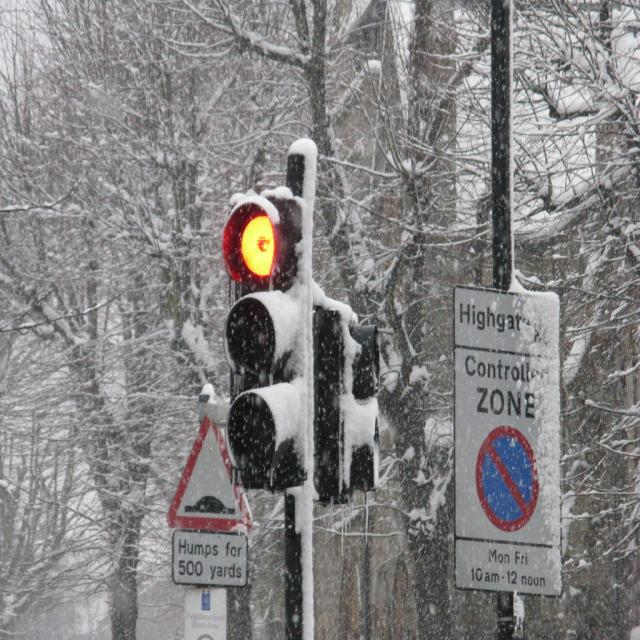road_sign: (165, 410, 254, 533), (472, 426, 539, 532)
traffic light: (220, 195, 308, 484)
